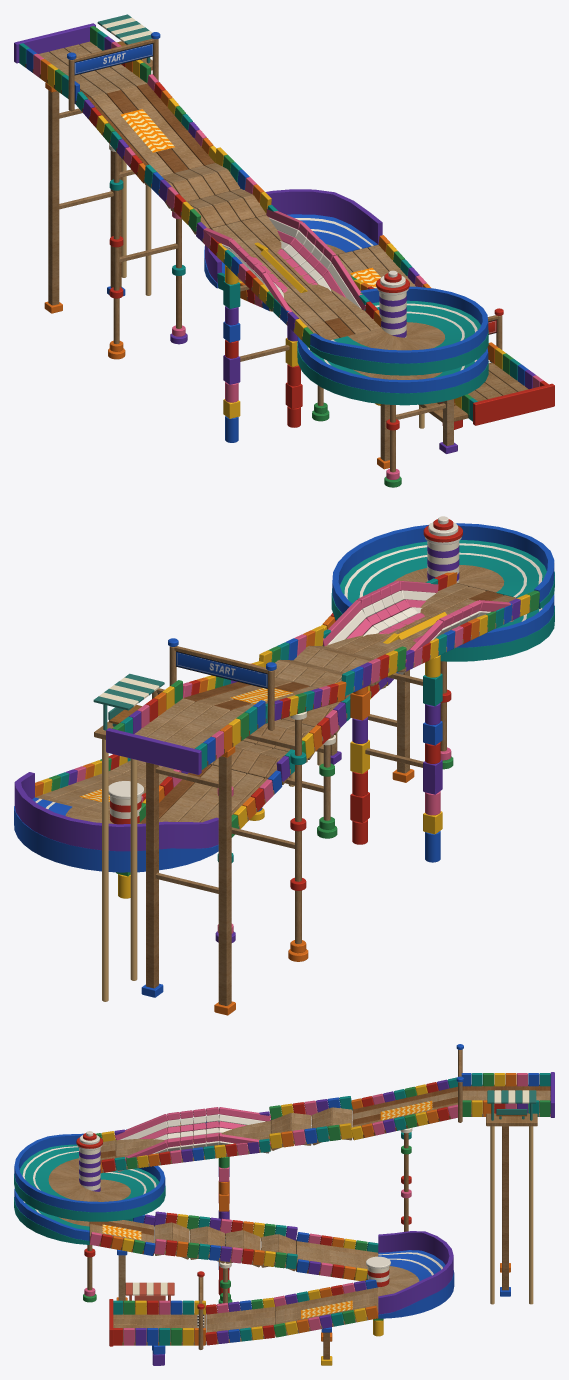
File: wooden-chute.glb
3 renders of one model, top to bottom at view 1: azimuth 30°, elevation 25°; view 2: azimuth 150°, elevation 25°; view 3: azimuth 270°, elevation 25°, orthographic. The views are drawn at different scales.
Parts seen in each view (by area): view 1: stage0; view 2: stage0; view 3: stage0.
Boxes of the visible parts, x1=… form: stage0: x1=14, y1=14, x2=554, y2=487; stage0: x1=14, y1=516, x2=554, y2=1015; stage0: x1=14, y1=1044, x2=554, y2=1365.
Size of the model in its own units: 57.5 by 56.6 by 126.
7 materials, 6 textured.
